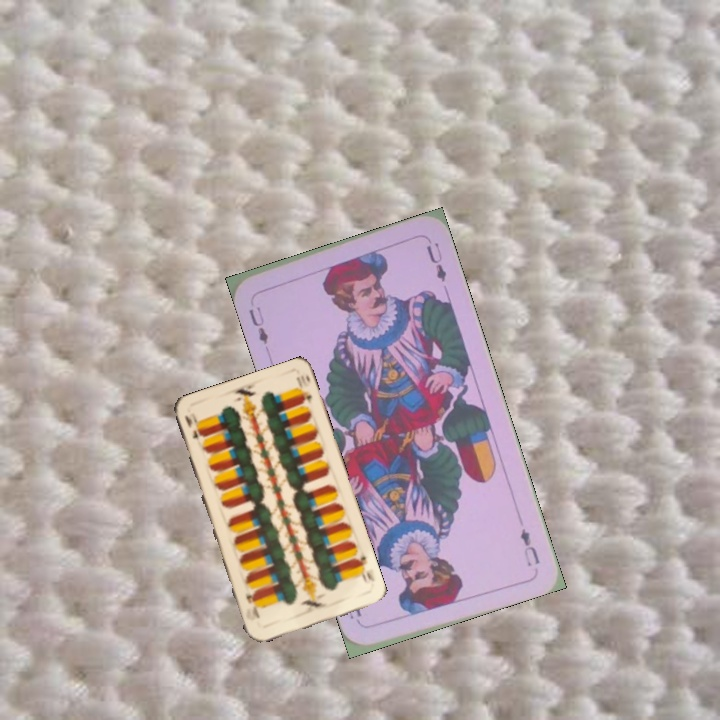E10: (351, 551, 377, 585), (180, 411, 203, 443)
EU: (244, 302, 271, 347), (516, 524, 543, 569)
